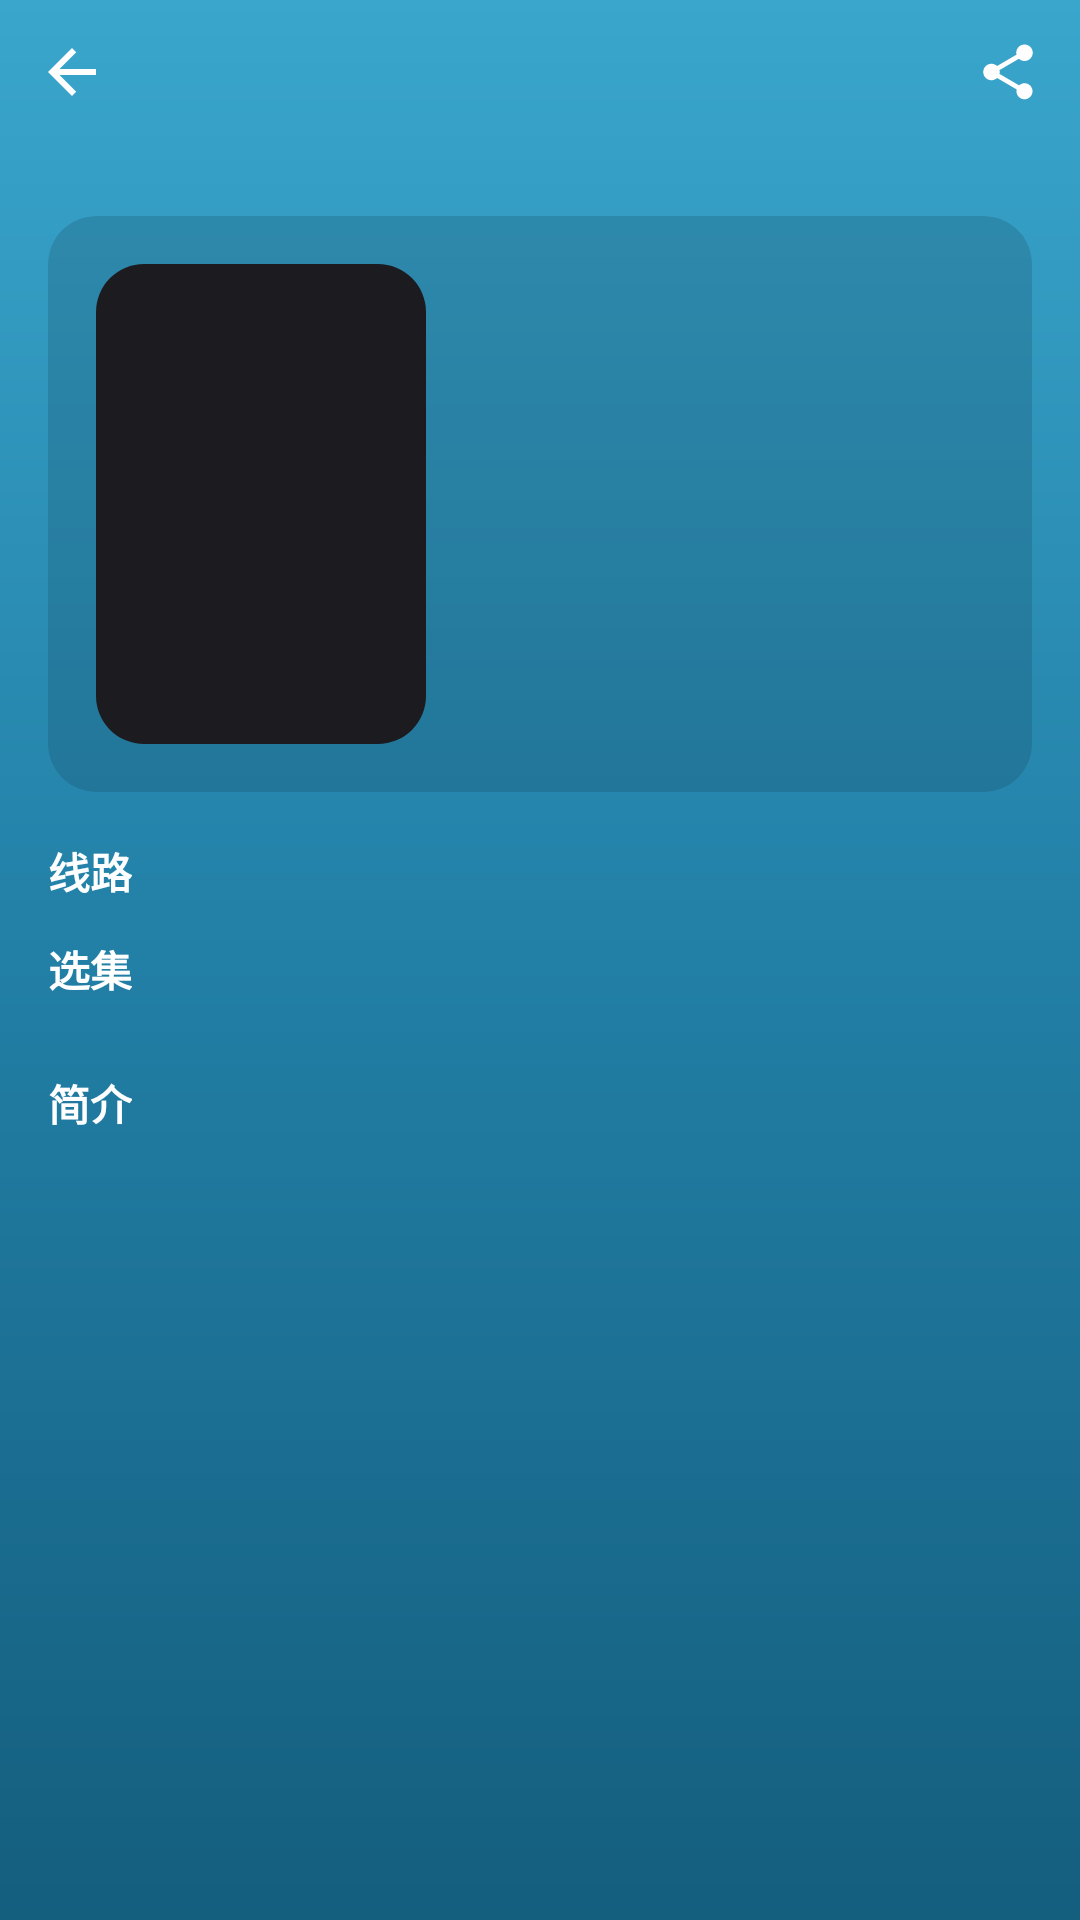

Icons on this 1080w x 1920h Android screen, each with the point to tap as (x=x, y=y):
back: (x=72, y=72)
share: (x=1008, y=72)
